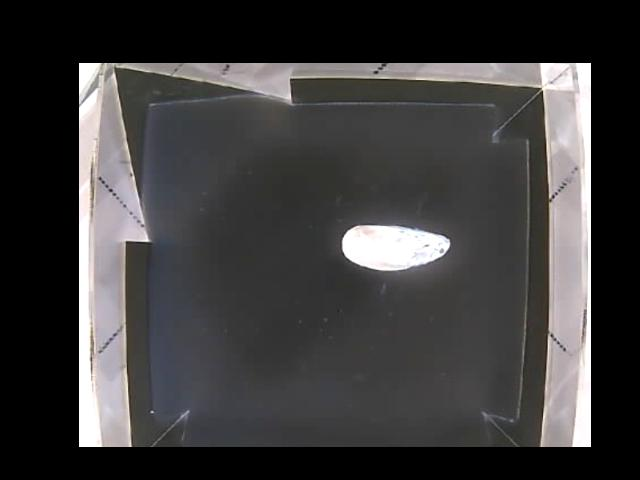Shell: (342, 224, 451, 271)
